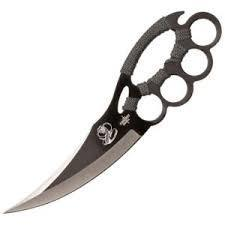Knife: (4, 5, 221, 214)
